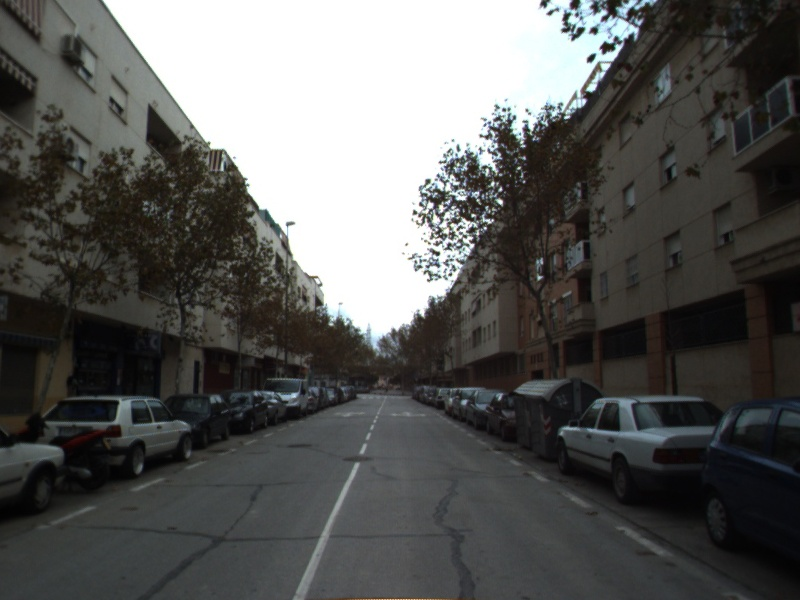STRAIGHT_LEFT_RIGHT: (388, 409, 429, 420)
